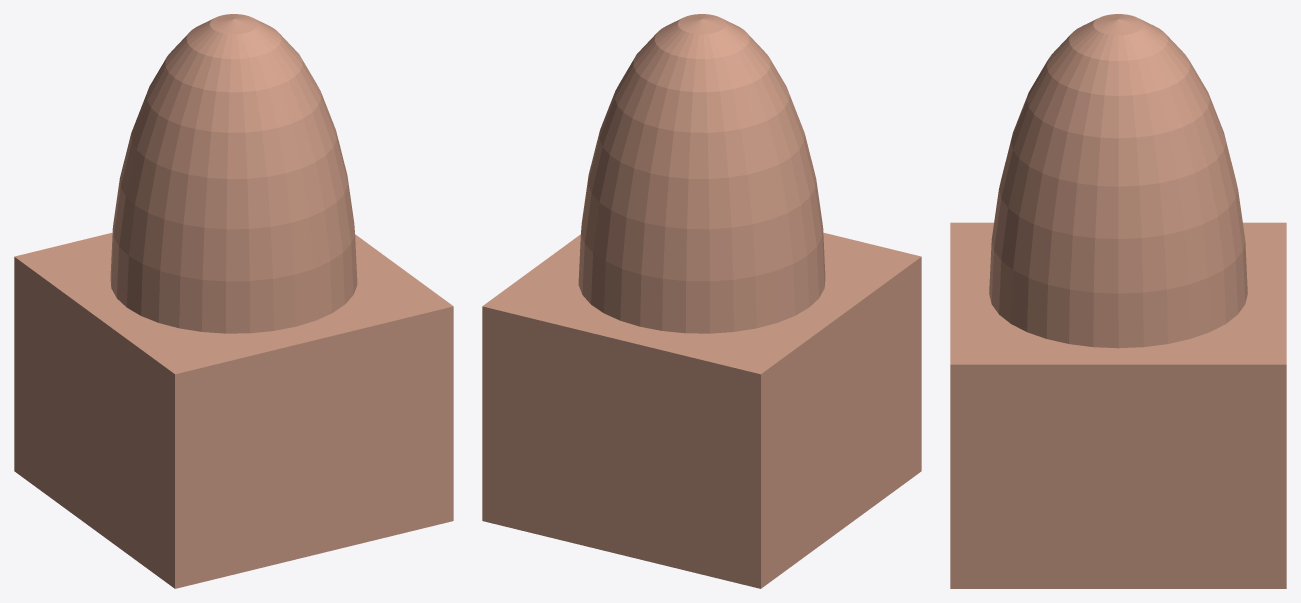
The model's file is place-mausoleum-of-khoja-ahmed-yasawi.glb.
3 renders of one model, left to right at view 1: azimuth 30°, elevation 25°; view 2: azimuth 150°, elevation 25°; view 3: azimuth 270°, elevation 25°, orthographic. The views are drawn at different scales.
Parts seen in each view (by area): view 1: place-mausoleum-of-khoja-ahmed-yasawi; view 2: place-mausoleum-of-khoja-ahmed-yasawi; view 3: place-mausoleum-of-khoja-ahmed-yasawi.
Part boxes in pixels (box(x1,y1,x2,y2)): place-mausoleum-of-khoja-ahmed-yasawi: box(14, 14, 453, 588); place-mausoleum-of-khoja-ahmed-yasawi: box(482, 14, 921, 588); place-mausoleum-of-khoja-ahmed-yasawi: box(950, 14, 1286, 588).
Bounding box in the file's own units: 23.66 × 38.7 × 23.66.
